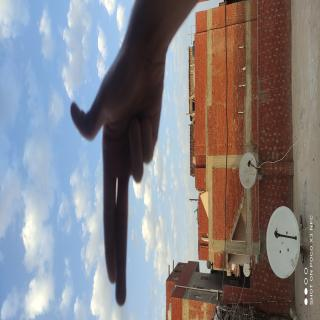GHAYN: (4, 148, 143, 320)
